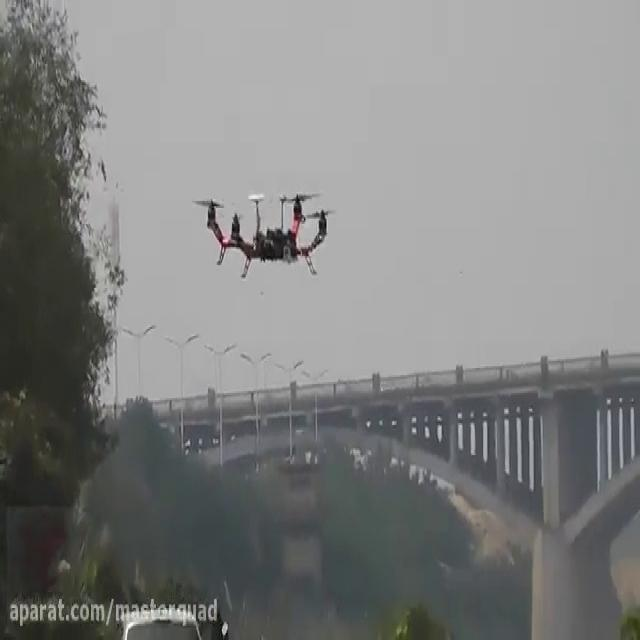drone: (188, 180, 337, 282)
